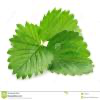Strawberry leaf: (7, 21, 55, 80), (44, 28, 95, 76), (39, 7, 84, 44)
